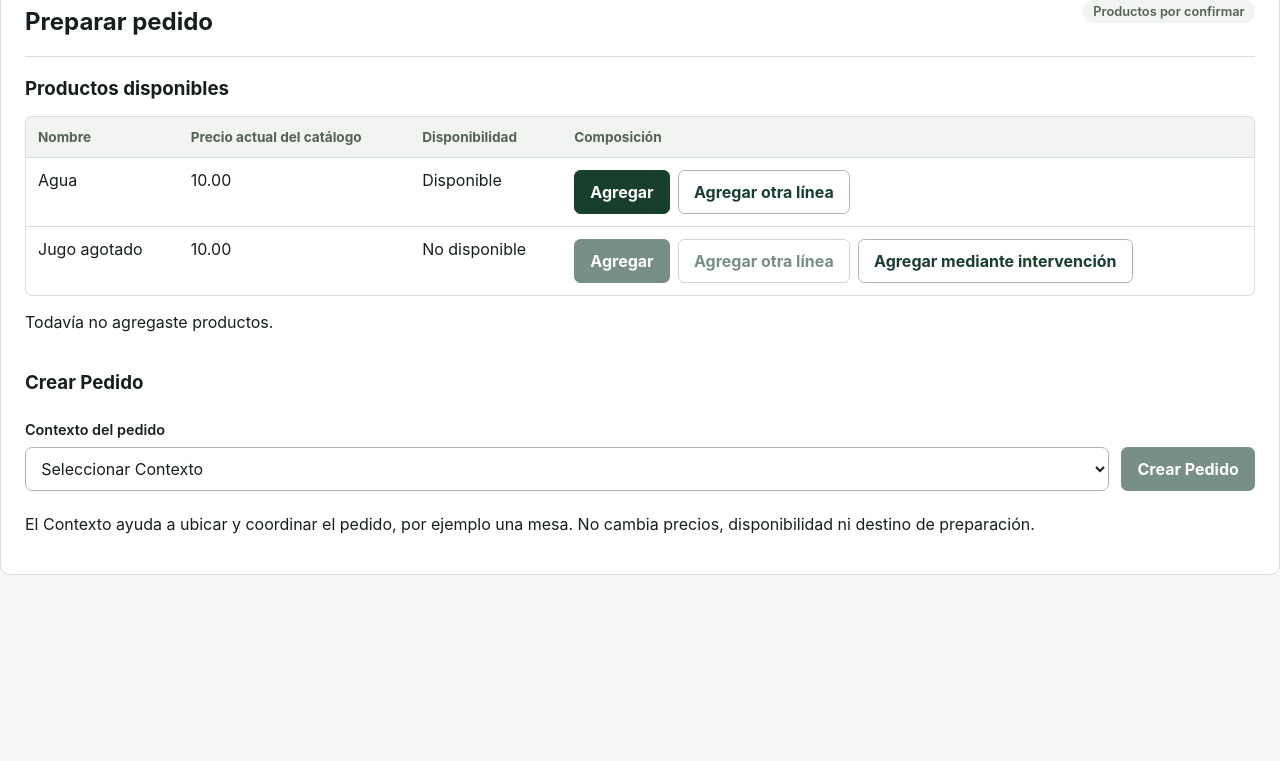
OrderWorkflow - Composición y Primera Confirmación › shows a distinct intervention action only for an unavailable Product and the dual capability
Expected: the button with aria-label "Agregar Agua a Preparar pedido" is enabled, [574,170,670,214]
Expected: the button with aria-label "Agregar Jugo agotado a Preparar pedido" is disabled, [574,239,670,283]
Click the button with aria-label "Agregar Jugo agotado mediante intervención a Preparar pedido" at (995, 261), box [858,239,1133,283]
(page scrolled)
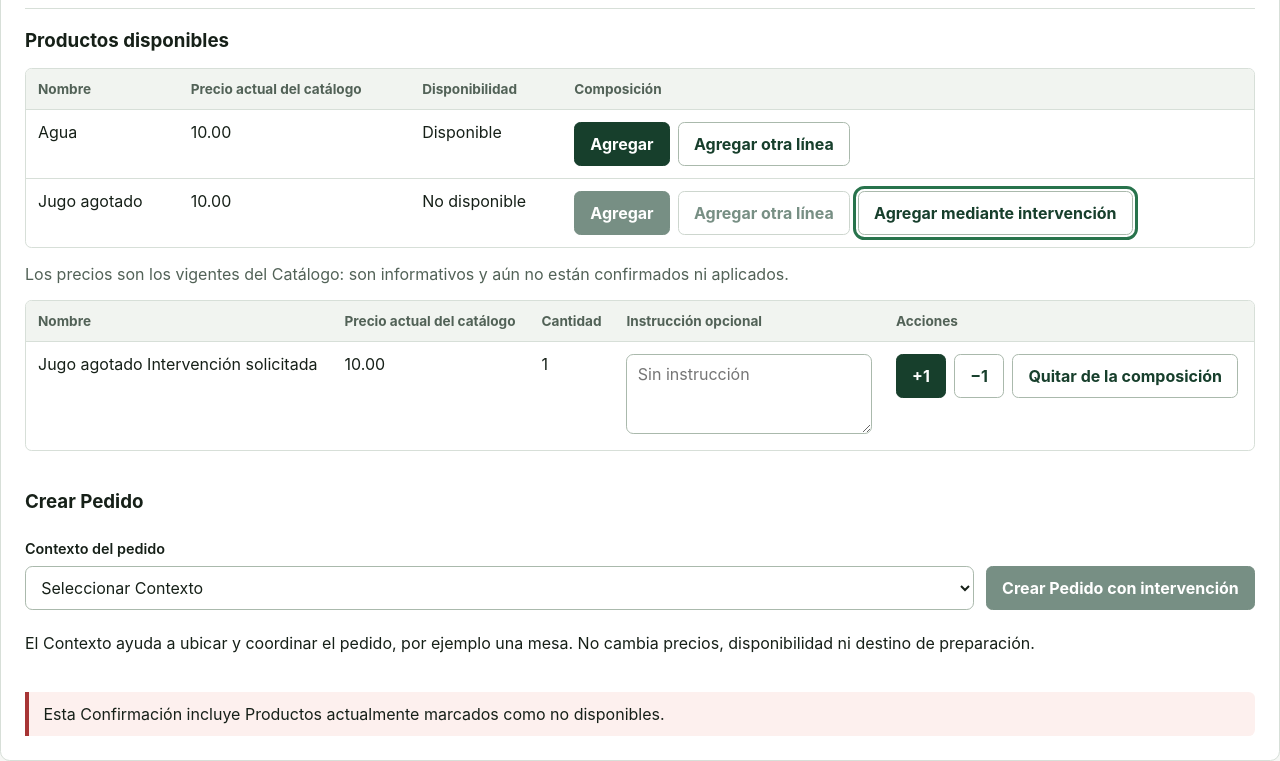
Result: the text "Intervención solicitada" is shown at [143,354,317,374]
Result: the button "Crear Pedido con intervención" is shown at [986,566,1255,610]
Result: the text "Esta Confirmación incluye Productos actualmente marcados como no disponibles." is shown at [25,692,1255,736]
